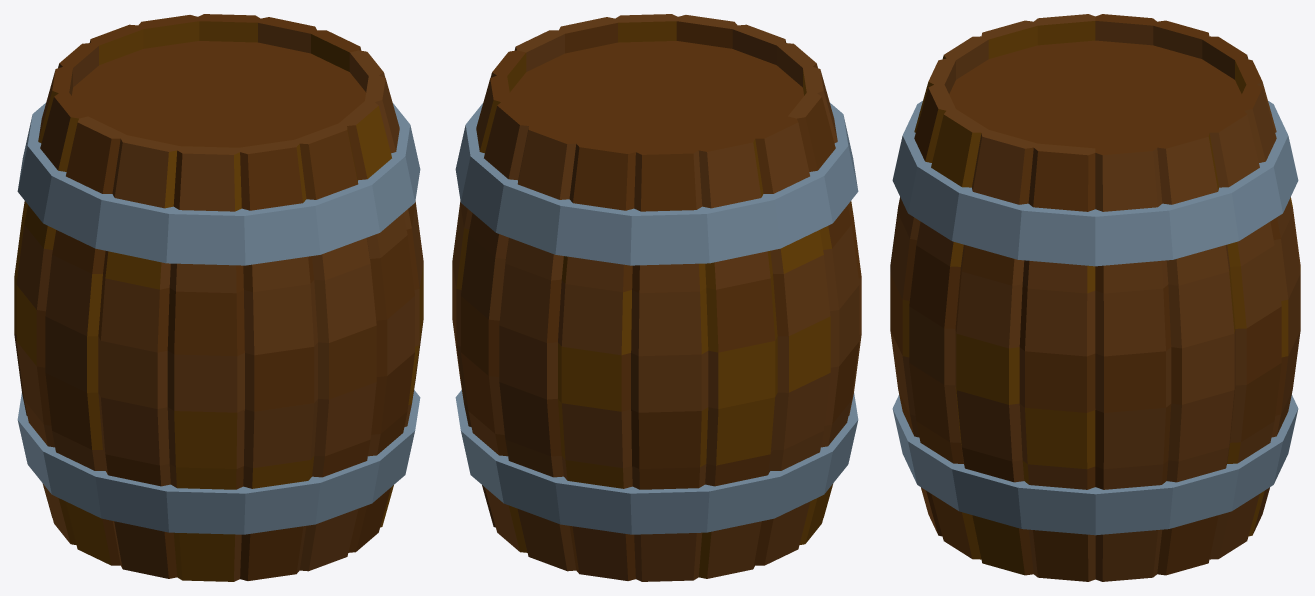
File: barrel.fbx
3 renders of one model, left to right at view 1: azimuth 30°, elevation 25°; view 2: azimuth 150°, elevation 25°; view 3: azimuth 270°, elevation 25°, orthographic.
Parts seen in each view (by area): view 1: barrel; view 2: barrel; view 3: barrel.
Part boxes in pixels (x1=…): barrel: x1=14, y1=14, x2=423, y2=581; barrel: x1=452, y1=14, x2=861, y2=581; barrel: x1=890, y1=14, x2=1300, y2=581.
Bounding box in the file's own units: 601 × 689 × 601.
